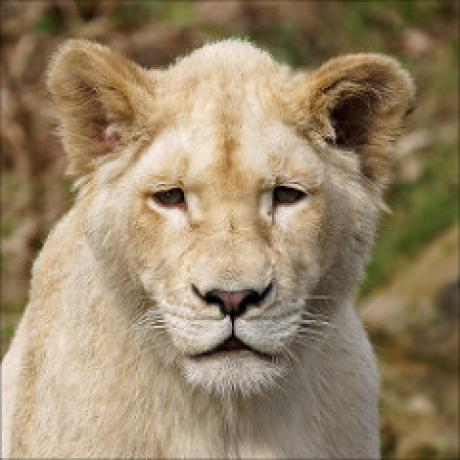Lion: (2, 36, 415, 460)
